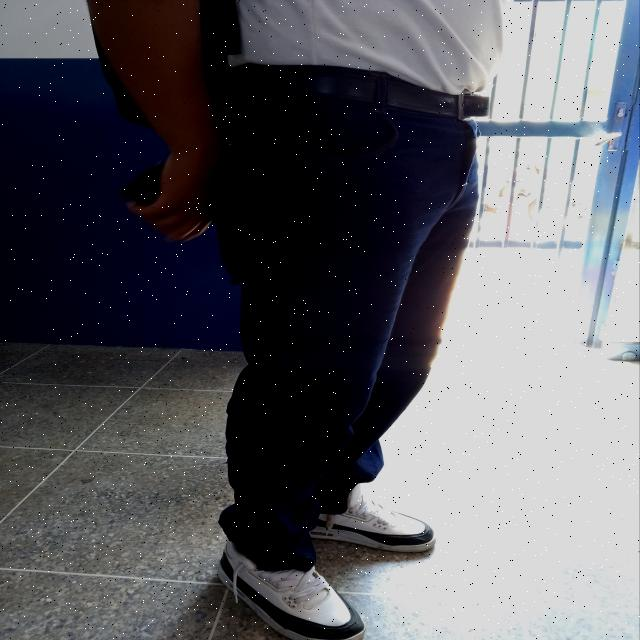pantalon_oscuro: (212, 91, 482, 574)
